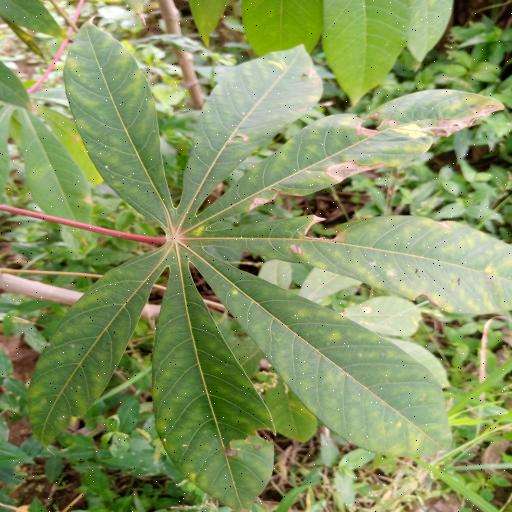Cassava_Mosaic: (14, 22, 512, 512)
